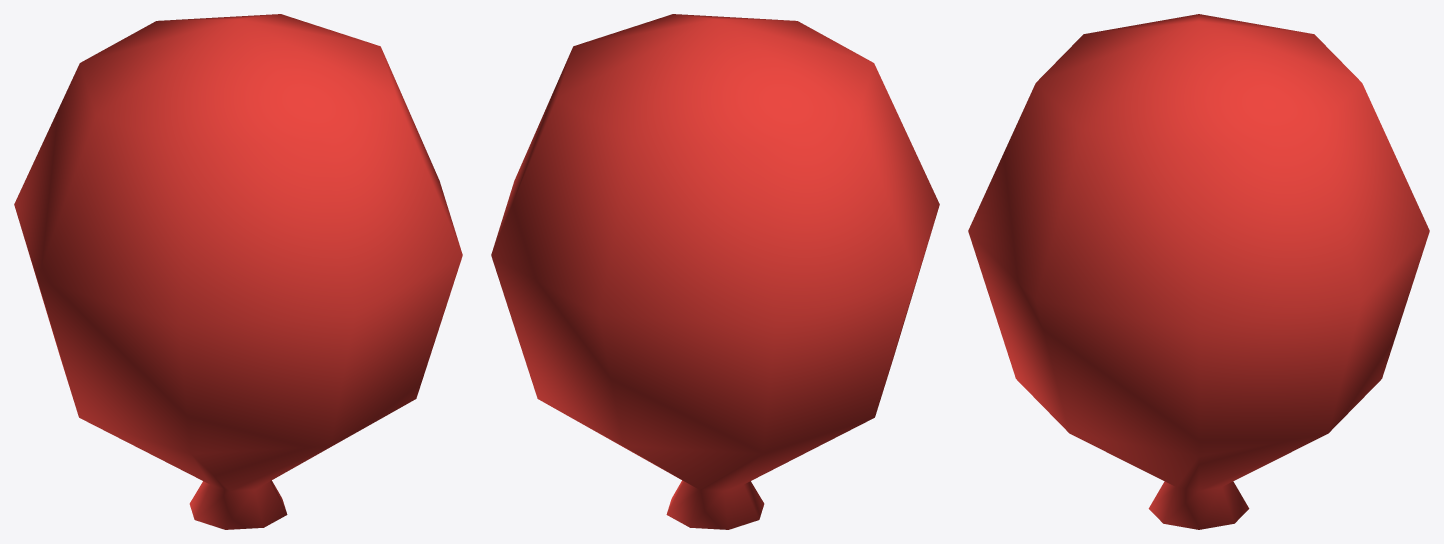
Rendered from Balloon.glb.
3 views of the same model, side by side, from view 1: azimuth 30°, elevation 25°; view 2: azimuth 150°, elevation 25°; view 3: azimuth 270°, elevation 25° (orthographic).
Visible parts, largest first — view 1: Sphere; view 2: Sphere; view 3: Sphere.
Part boxes in pixels (x1,y1,x2,y2): Sphere: (14,14,462,529); Sphere: (491,14,939,529); Sphere: (968,14,1429,529).
Size of the model in its own units: 0.8819 by 1.03 by 0.8819.
